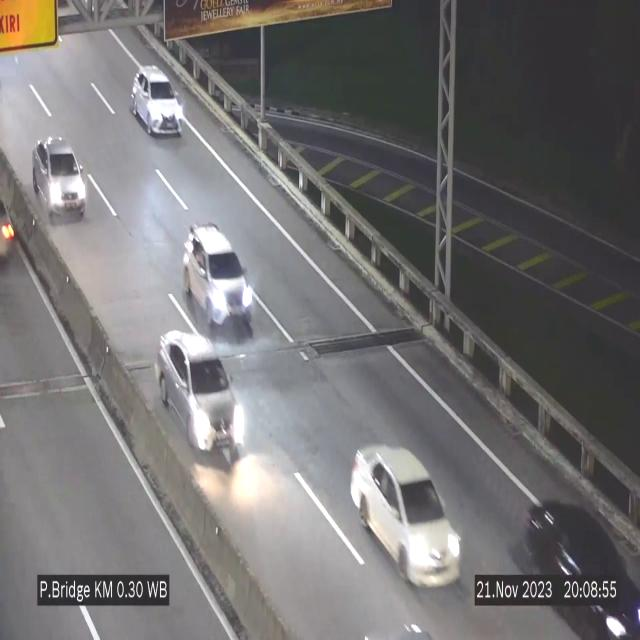Car: (351, 446, 460, 584), (157, 332, 245, 457), (182, 225, 255, 333), (32, 136, 86, 219), (130, 65, 184, 134)
